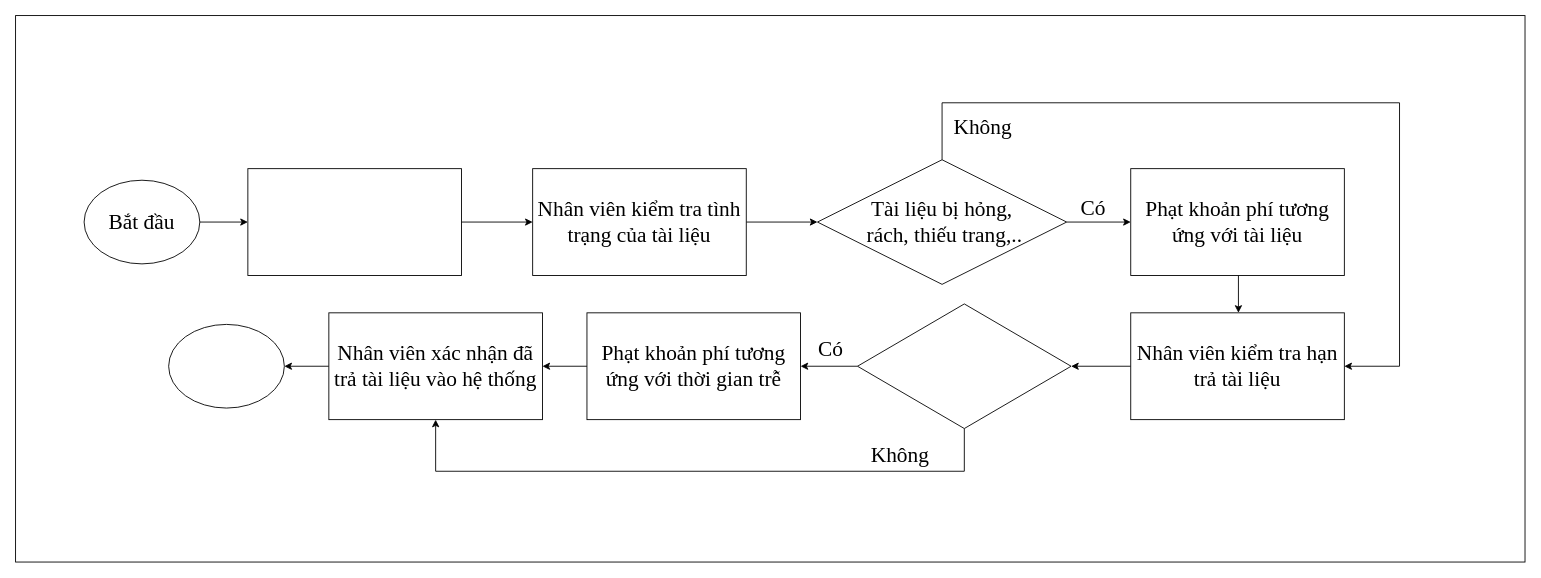
The diagram is 1541 pixels wide and 578 high, and some of its shapes have lost their labels. The centre of each missing label's shape, as x and y in pixels:
"Kết thúc" goes at point (226, 366).
"Trả tài liệu trễ hạn" goes at point (964, 366).
"Xuất trình thẻ thư viện và tài liệu được trả" goes at point (354, 221).
